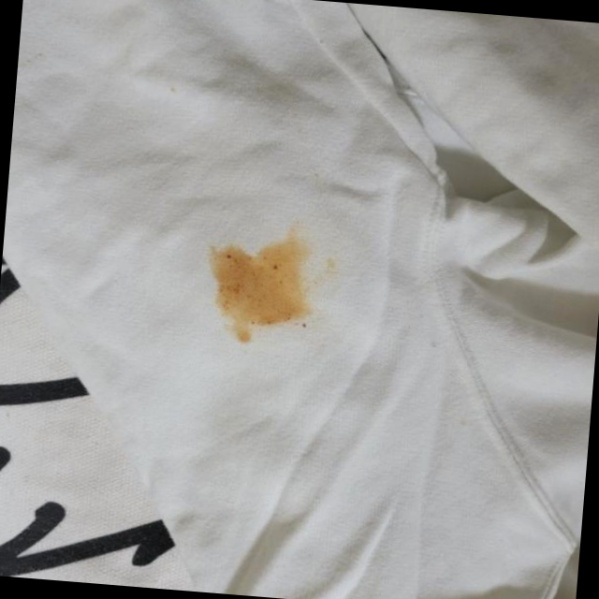kimchi: (199, 213, 351, 362)
